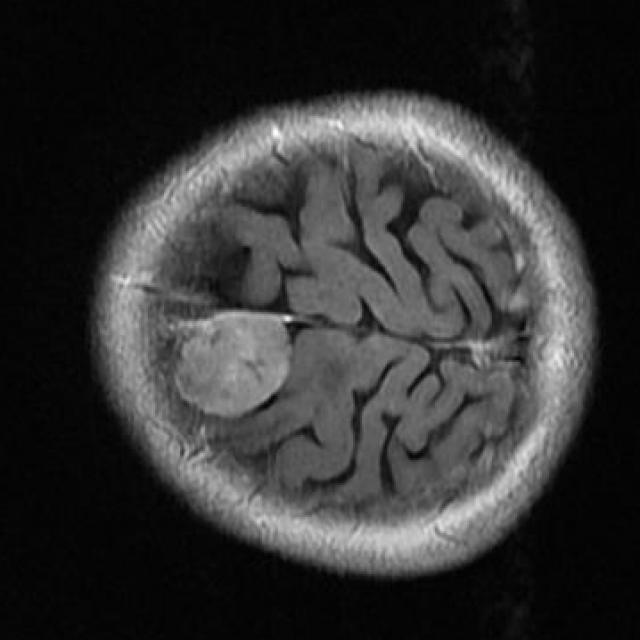meningioma: (175, 312, 292, 421)
